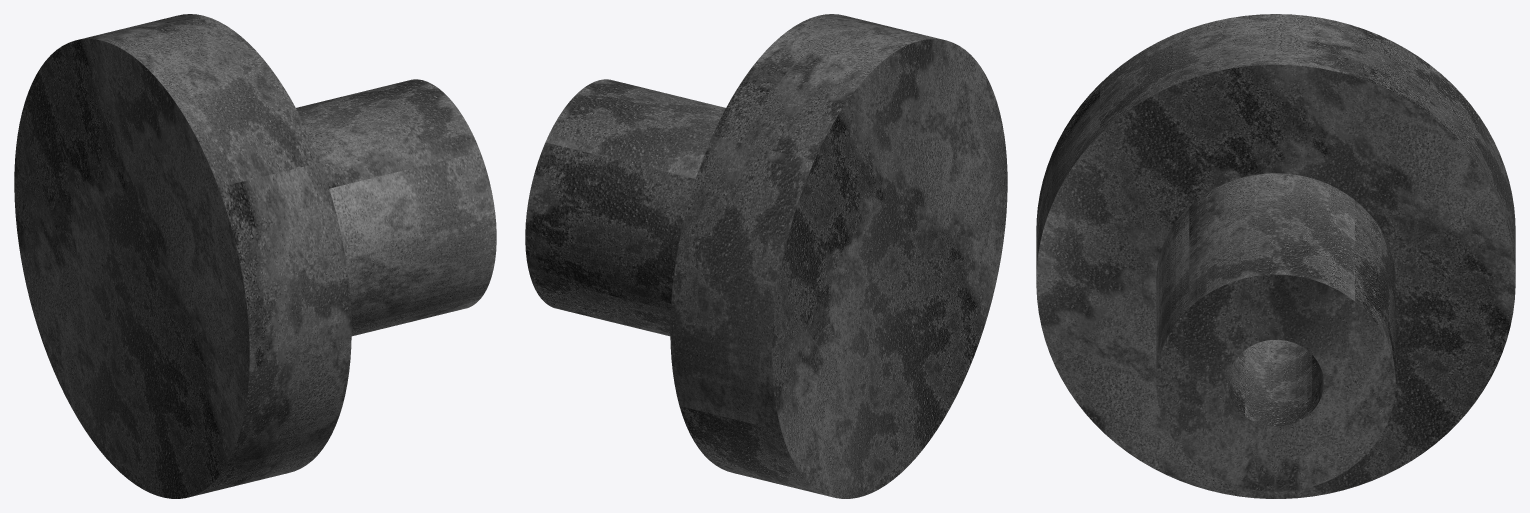
The model's file is Crank.Handle.Stop.fbx.
3 renders of one model, left to right at view 1: azimuth 30°, elevation 25°; view 2: azimuth 150°, elevation 25°; view 3: azimuth 270°, elevation 25°, orthographic.
Parts seen in each view (by area): view 1: Vive.Support v1; view 2: Vive.Support v1; view 3: Vive.Support v1.
Part boxes in pixels (x1=…): Vive.Support v1: x1=14, y1=14, x2=496, y2=498; Vive.Support v1: x1=525, y1=14, x2=1007, y2=498; Vive.Support v1: x1=1036, y1=14, x2=1515, y2=498.
Bounding box in the file's own units: 3 × 4 × 4.
